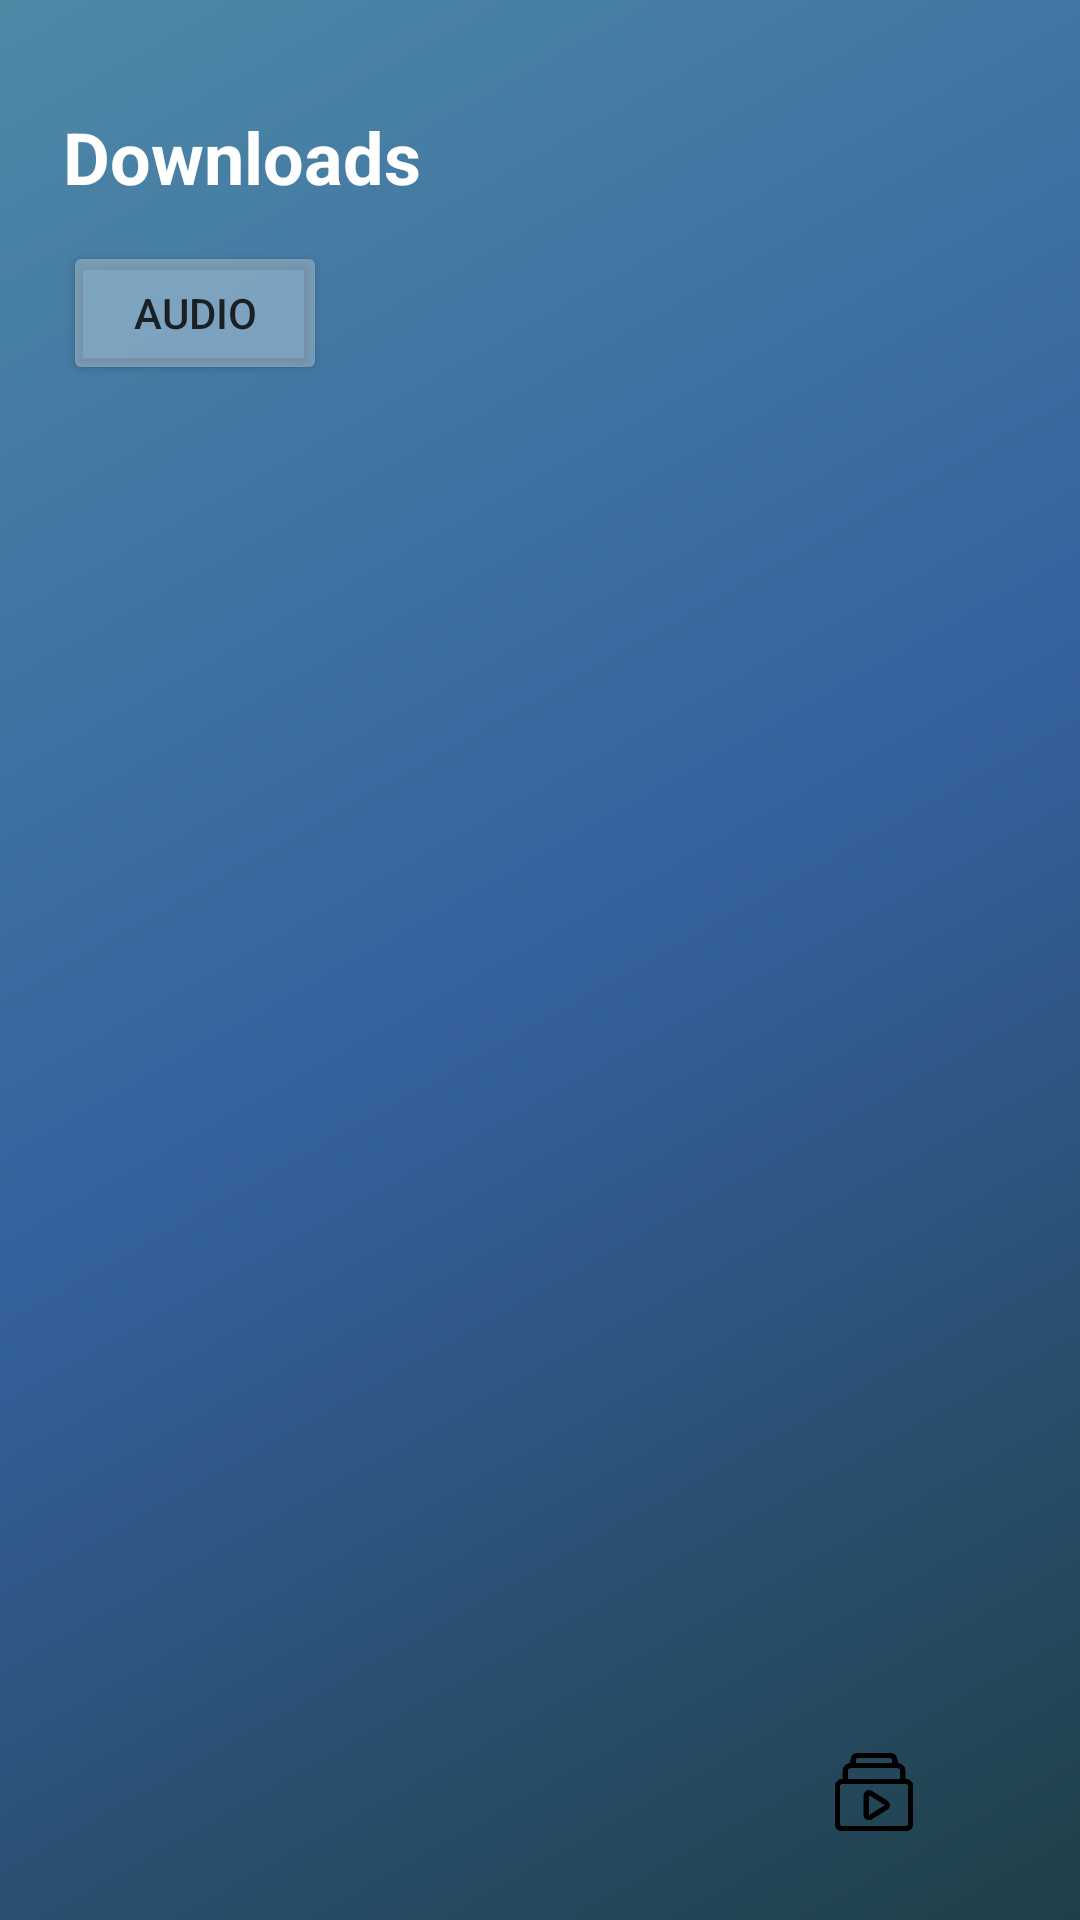

Where icons sit on this 1080 x 1920 app screen, as {"left": x1, "top": y1, "right": x2, "bottom": y2}:
playlist: {"left": 835, "top": 1753, "right": 913, "bottom": 1831}
